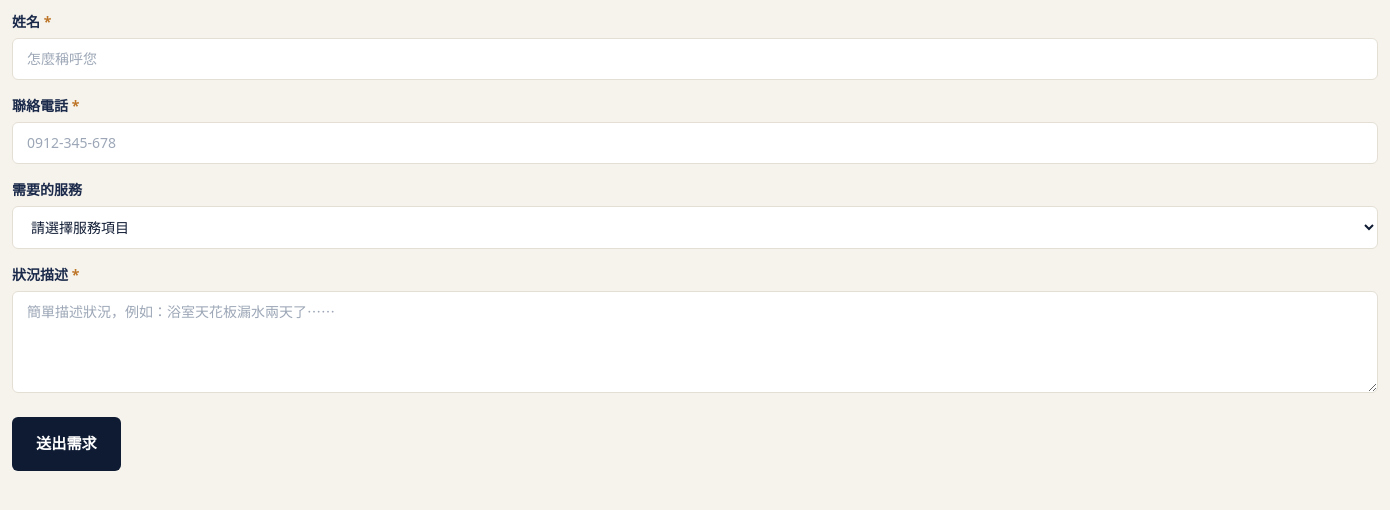
ContactForm › rejects an invalid phone number
Type "王小明" into the field labelled "姓名 *" at (695, 59), box [12,38,1378,80]
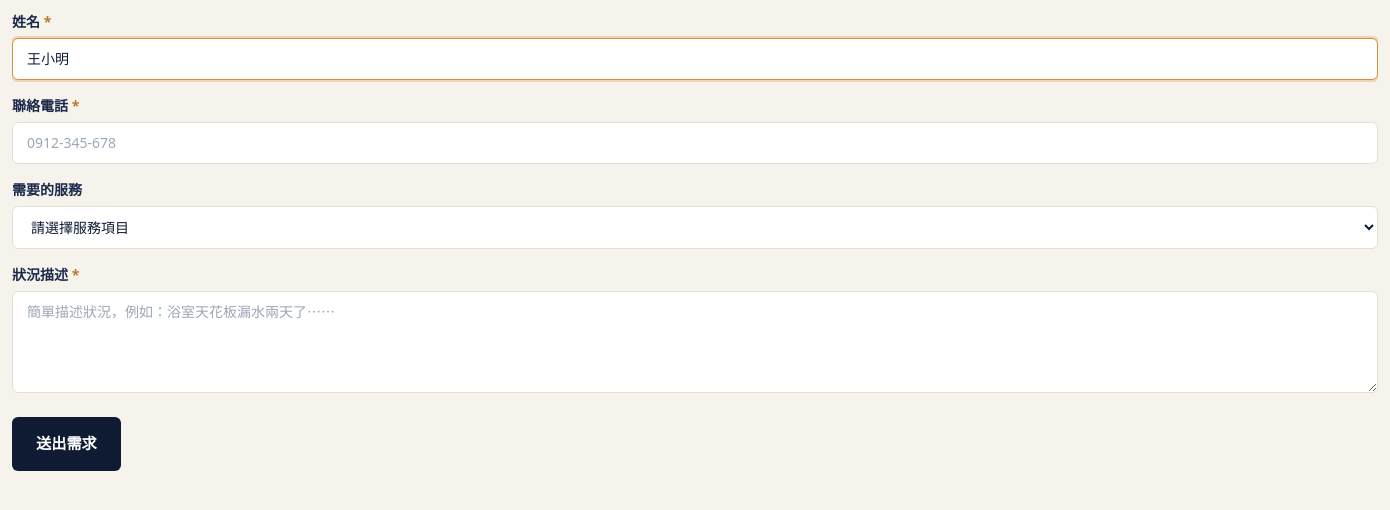
Type "12345" into the field labelled "聯絡電話 *" at (695, 143), box [12,122,1378,164]
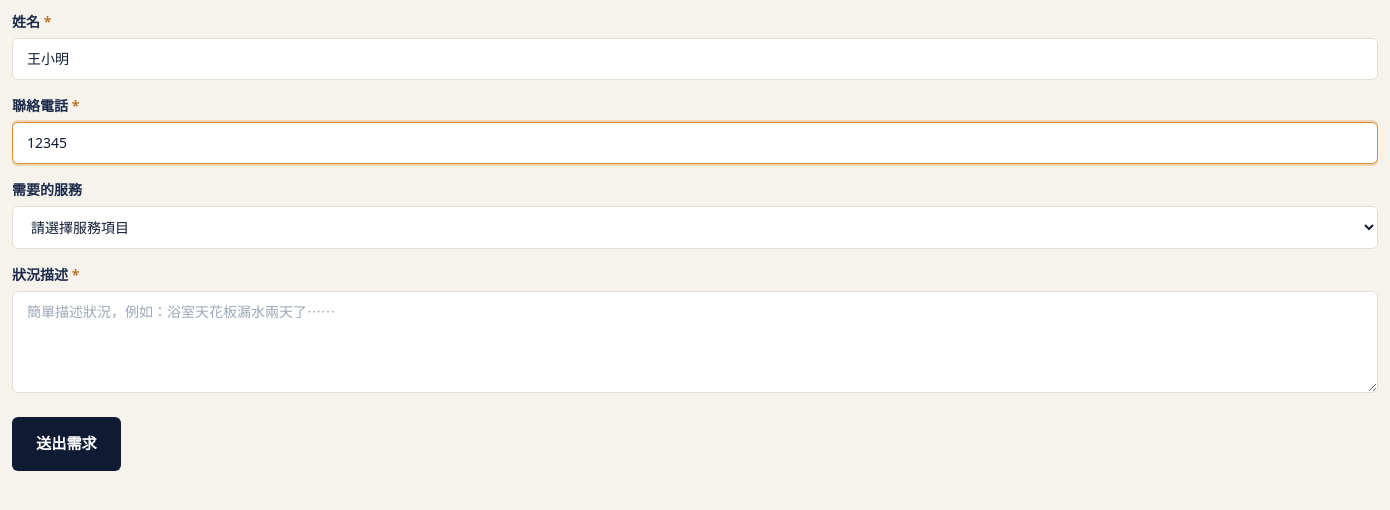
Type "浴室漏水" into the text box labelled "狀況描述 *" at (695, 342), box [12,291,1378,393]
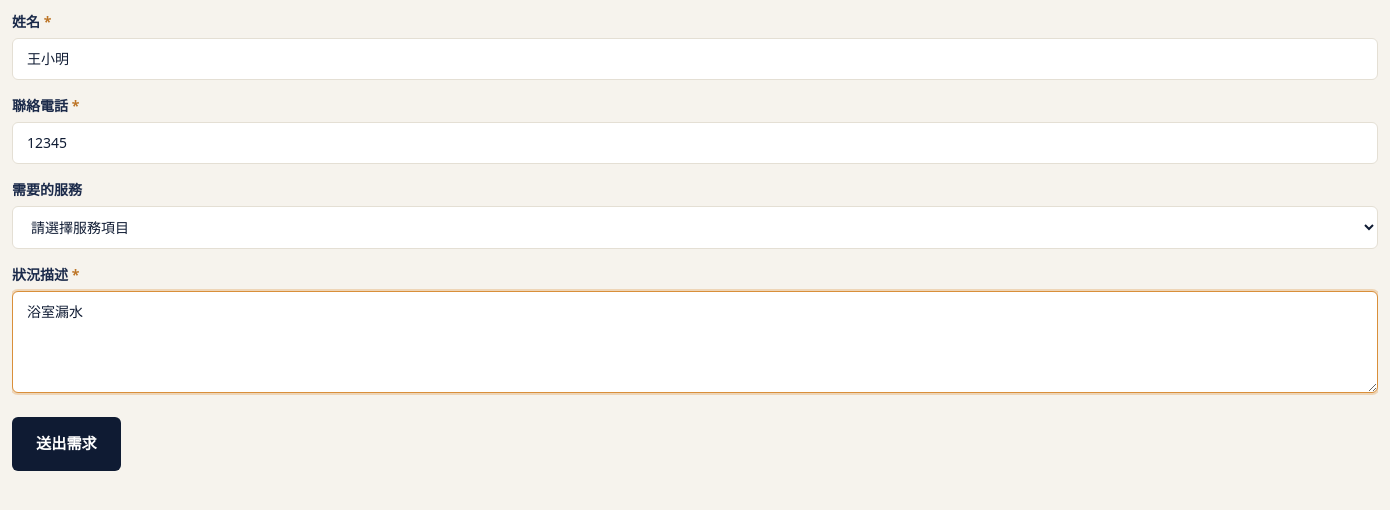
Click the button "送出需求" at (66, 444), box [12,417,121,471]
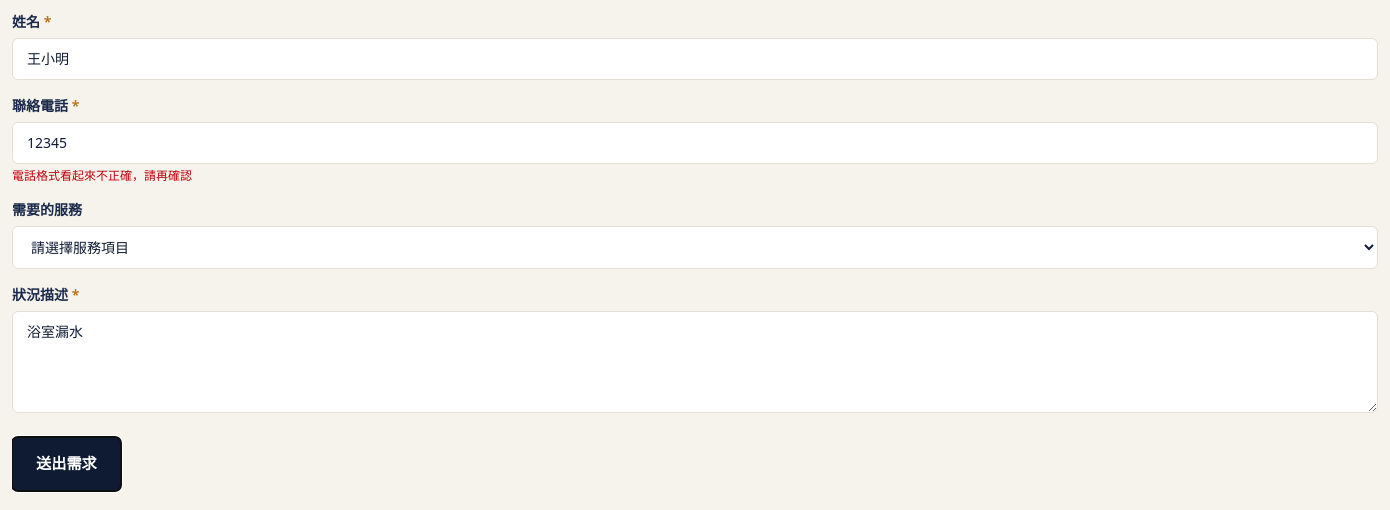
Expected: the text "電話格式看起來不正確，請再確認" is shown, [12,167,192,184]
